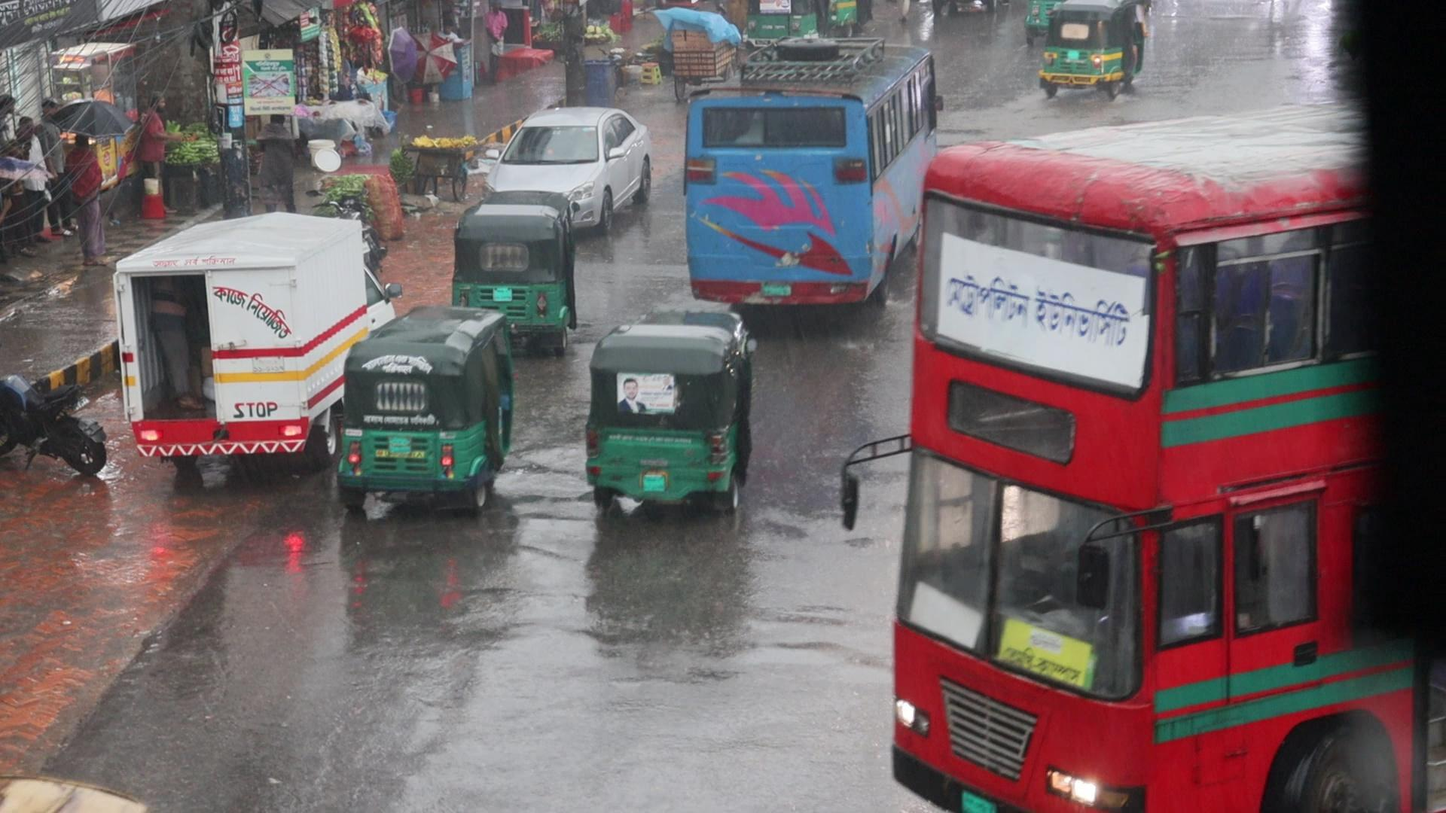Bus: (841, 106, 1419, 813), (682, 37, 917, 306)
